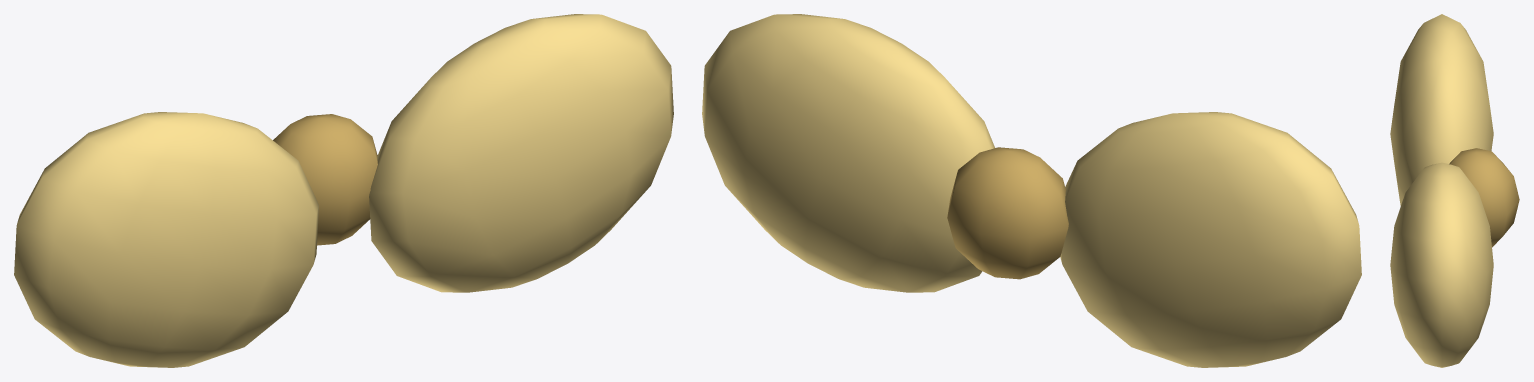
Rendered from Acc_Ribbon.fbx.
3 views of the same model, side by side, from view 1: azimuth 30°, elevation 25°; view 2: azimuth 150°, elevation 25°; view 3: azimuth 270°, elevation 25° (orthographic). The views are drawn at different scales.
Parts seen in each view (by area): view 1: Ribbon, Ribbon.001, Ribbon_Knot; view 2: Ribbon.001, Ribbon, Ribbon_Knot; view 3: Ribbon, Ribbon.001, Ribbon_Knot.
Part boxes in pixels (<box>): Ribbon: <box>369,14,673,292</box>; Ribbon.001: <box>14,112,318,367</box>; Ribbon_Knot: <box>273,114,377,245</box>; Ribbon.001: <box>1060,112,1361,367</box>; Ribbon: <box>702,14,994,292</box>; Ribbon_Knot: <box>947,147,1068,279</box>; Ribbon: <box>1390,162,1493,367</box>; Ribbon.001: <box>1390,14,1493,205</box>; Ribbon_Knot: <box>1449,148,1519,247</box>.
Bounding box in the file's own units: 33.48 × 12.44 × 7.5.
